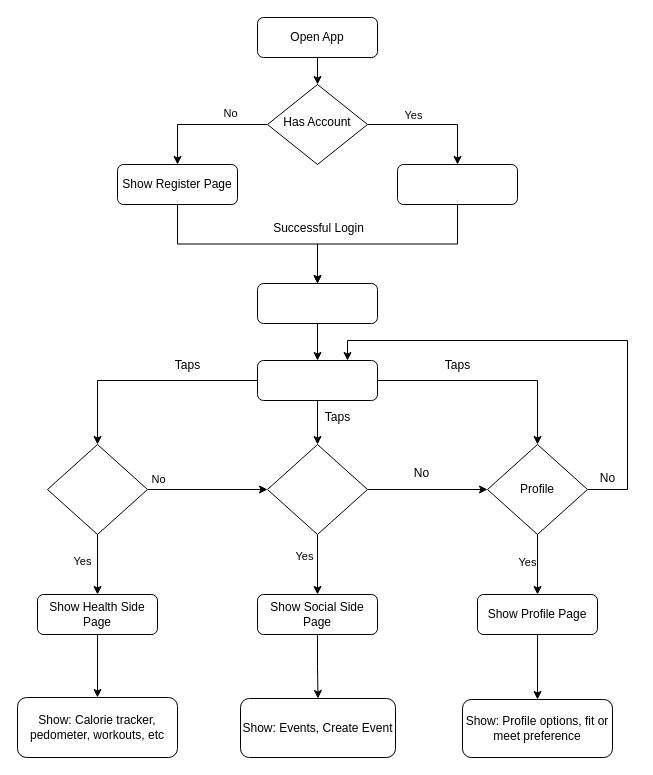
The diagram is 653 pixels wide and 775 high, and some of its shapes have lost their labels. Each missing label, with the box of its shape:
Health Side?: (46, 444, 148, 534)
Home Page: (256, 282, 378, 324)
Show Login Page: (396, 164, 518, 204)
Show Options: (256, 360, 378, 400)
Social Side?: (266, 444, 368, 534)
